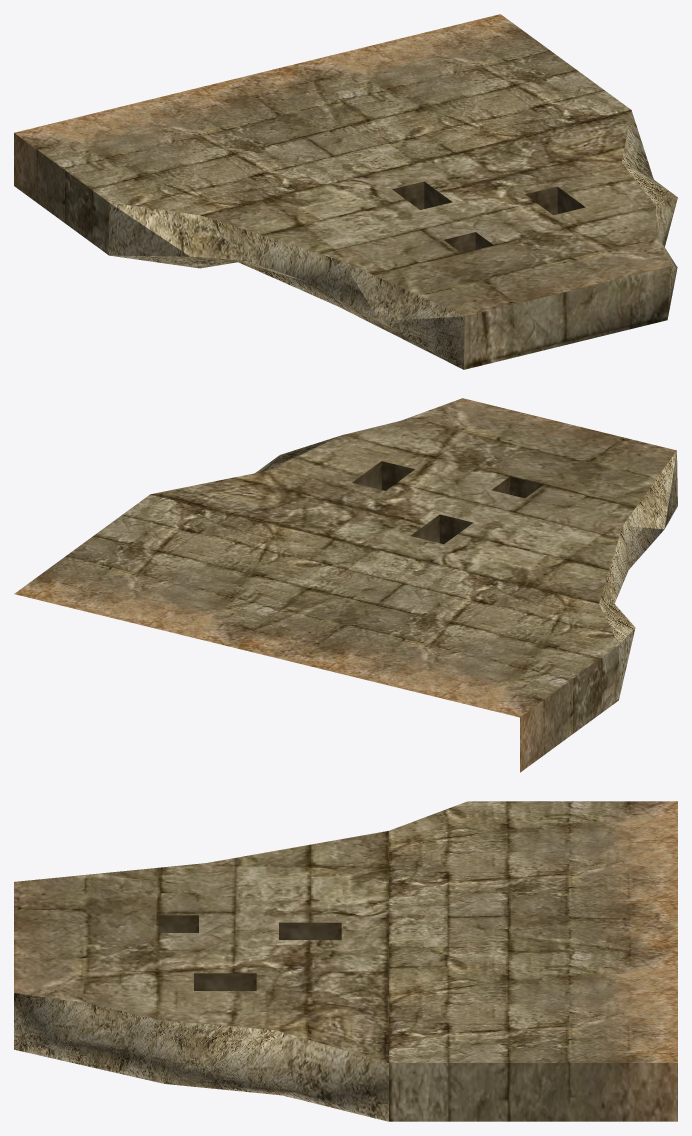
3 renders of one model, top to bottom at view 1: azimuth 30°, elevation 25°; view 2: azimuth 150°, elevation 25°; view 3: azimuth 270°, elevation 25°, orthographic. The views are drawn at different scales.
Parts seen in each view (by area): view 1: model_Object34; view 2: model_Object34; view 3: model_Object34.
Part boxes in pixels (x1=…): model_Object34: x1=14, y1=14, x2=677, y2=369; model_Object34: x1=14, y1=398, x2=677, y2=772; model_Object34: x1=14, y1=801, x2=677, y2=1121.
Bounding box in the file's own units: 5.03 × 0.5259 × 5.39.
Materials: 3 (3 with a texture image).
